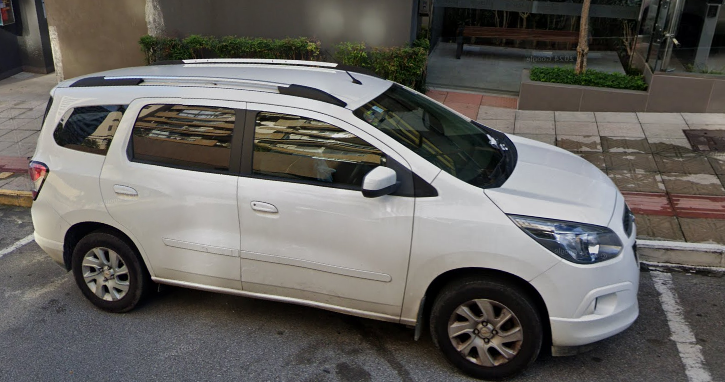car: (26, 62, 643, 377)
